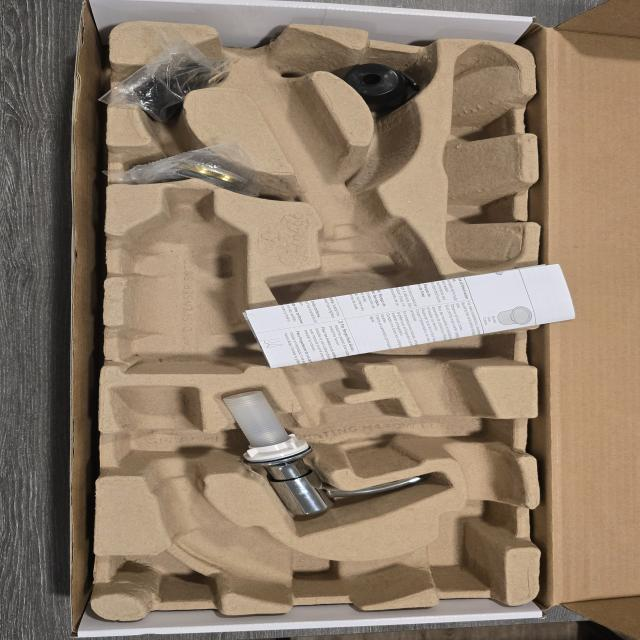1m: (113, 30, 522, 602)
2: (221, 391, 425, 516)
3m: (120, 187, 248, 377)
4m: (443, 44, 522, 273)
5: (344, 63, 419, 111)
6: (105, 142, 263, 196)
7: (99, 24, 239, 125)
8: (242, 263, 577, 368)
